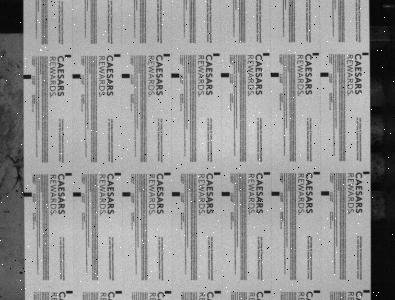qblock: (121, 74, 130, 79), (122, 192, 131, 197), (320, 72, 328, 77), (72, 74, 80, 79), (73, 192, 81, 197), (172, 192, 180, 197), (222, 192, 230, 197), (321, 191, 329, 196), (270, 73, 279, 77), (171, 74, 180, 78), (271, 192, 280, 196), (221, 73, 229, 77), (23, 75, 31, 79), (23, 193, 31, 197)
smallqblock: (214, 290, 222, 294), (213, 53, 220, 57), (65, 172, 72, 176), (362, 52, 369, 56), (66, 290, 73, 294), (363, 289, 370, 293), (164, 53, 170, 57), (115, 172, 121, 176), (263, 53, 270, 56), (164, 172, 171, 175), (313, 172, 320, 175), (214, 172, 221, 175), (363, 171, 370, 174), (264, 290, 271, 293), (165, 291, 172, 294), (115, 290, 122, 293), (114, 54, 121, 57), (312, 53, 319, 56), (65, 55, 71, 58), (264, 172, 270, 175), (314, 290, 320, 293)
